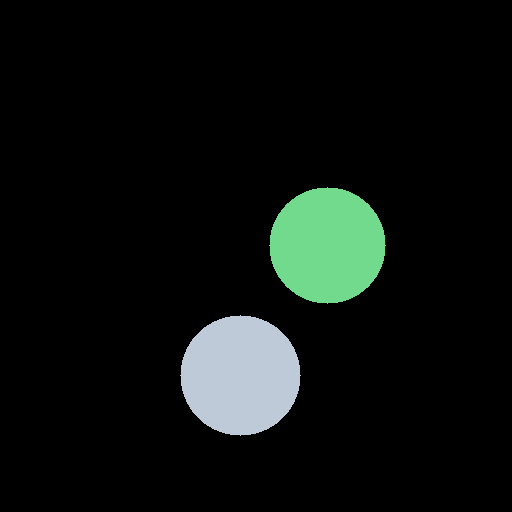circle: (180, 315, 300, 435), (269, 187, 385, 303)
